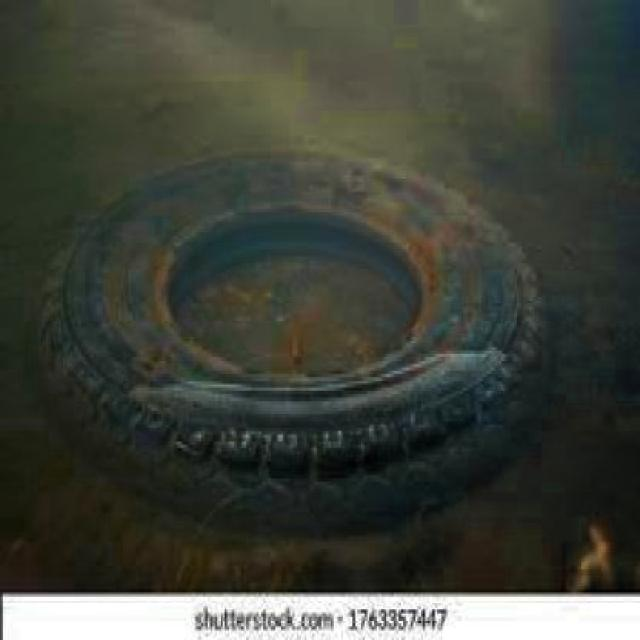tire: (58, 138, 560, 499)
